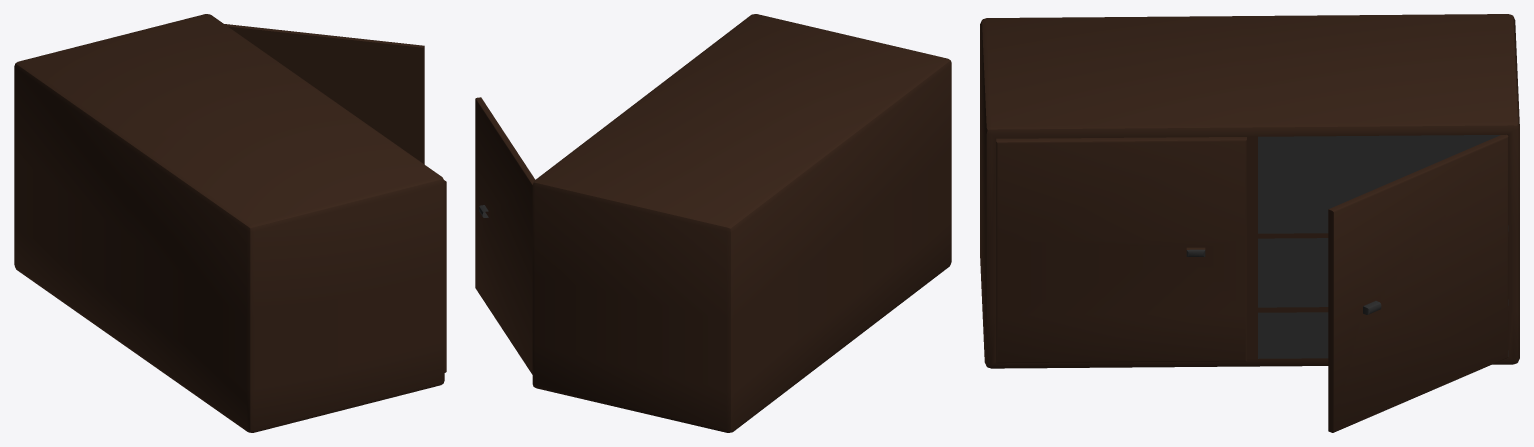
Rendered from Ceiling Cabinet Right Door open.fbx.
3 renders of one model, left to right at view 1: azimuth 30°, elevation 25°; view 2: azimuth 150°, elevation 25°; view 3: azimuth 270°, elevation 25°, orthographic. The views are drawn at different scales.
Visible parts, largest first — view 1: Cabinet Right Door Open; view 2: Cabinet Right Door Open; view 3: Cabinet Right Door Open.
Part boxes in pixels (x1,y1,x2,y2): Cabinet Right Door Open: (14, 14, 446, 432); Cabinet Right Door Open: (475, 14, 951, 432); Cabinet Right Door Open: (980, 14, 1519, 432).
Size of the model in its own units: 168 by 100 by 202.
